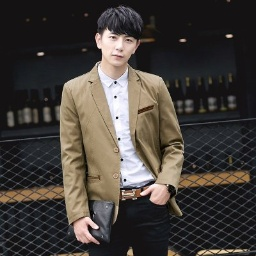face: (94, 6, 146, 68)
